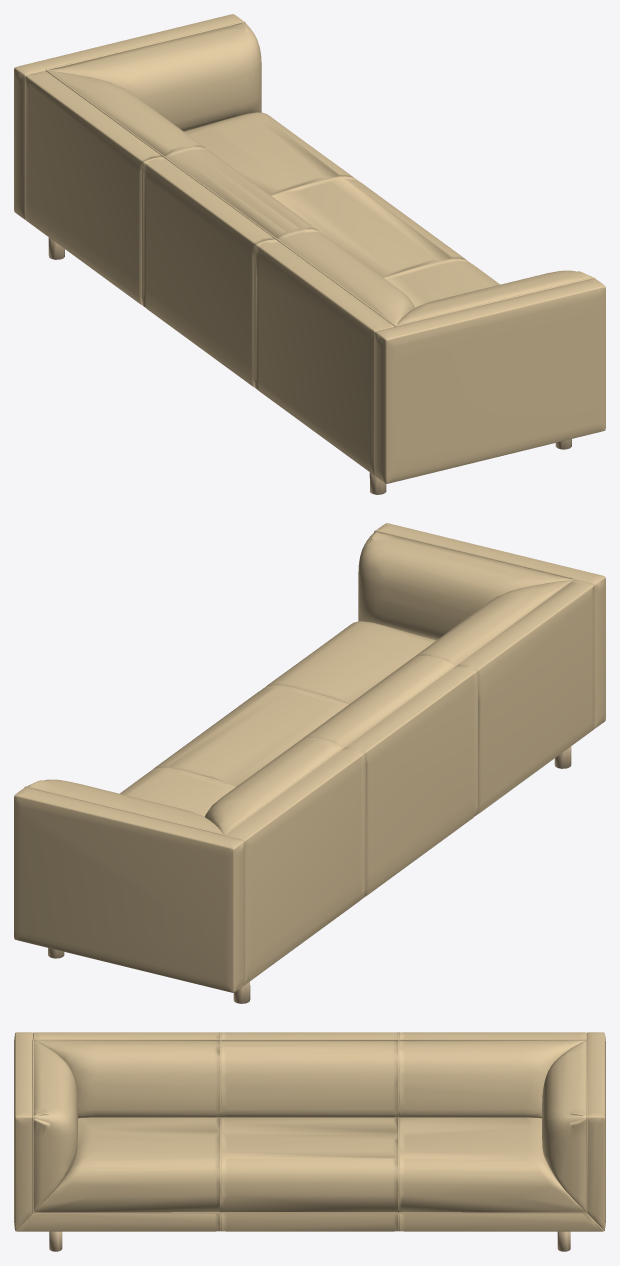
Rendered from HMI_Rolled_Arm_Sofa_96_3D.fbx.
3 renders of one model, top to bottom at view 1: azimuth 30°, elevation 25°; view 2: azimuth 150°, elevation 25°; view 3: azimuth 270°, elevation 25°, orthographic. The views are drawn at different scales.
Visible parts, largest first — view 1: Group1; view 2: Group1; view 3: Group1.
Boxes of the visible parts, x1,y1,x2,y2 form: Group1: [14, 14, 605, 494]; Group1: [14, 523, 605, 1003]; Group1: [14, 1032, 605, 1251].
Size of the model in its own units: 399 by 305 by 1156.
